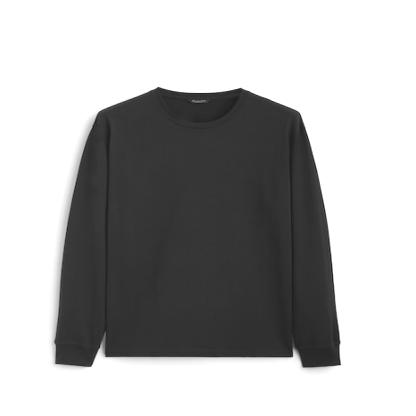dress: (38, 78, 354, 392)
